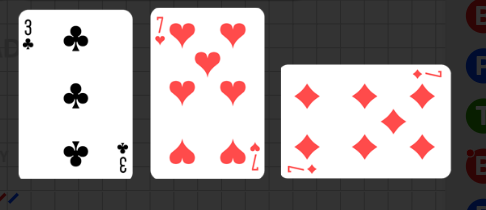3C: (22, 18, 36, 53)
7D: (286, 163, 318, 176), (411, 68, 443, 80)
